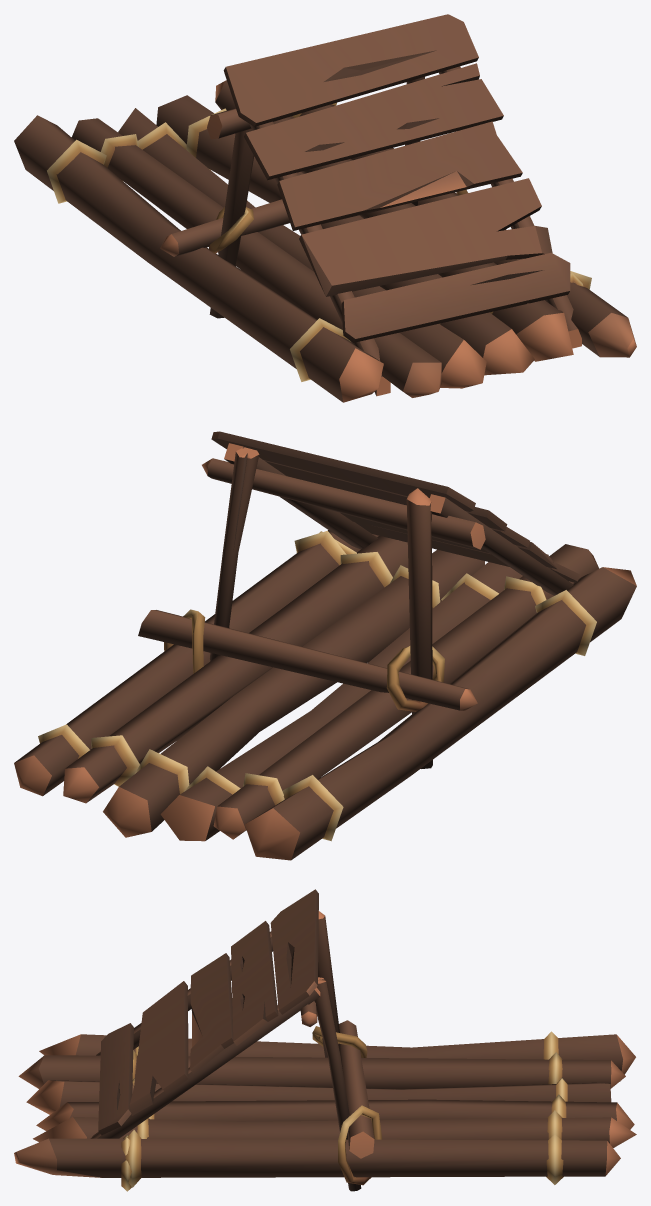
File: Boat_2A.fbx
3 renders of one model, top to bottom at view 1: azimuth 30°, elevation 25°; view 2: azimuth 150°, elevation 25°; view 3: azimuth 270°, elevation 25°, orthographic. The views are drawn at different scales.
Visible parts, largest first — view 1: Boat_2A; view 2: Boat_2A; view 3: Boat_2A.
Part boxes in pixels (x1=…): Boat_2A: x1=14, y1=14, x2=636, y2=402; Boat_2A: x1=14, y1=431, x2=636, y2=860; Boat_2A: x1=14, y1=889, x2=636, y2=1191.
Size of the model in its own units: 202 by 160 by 411.
